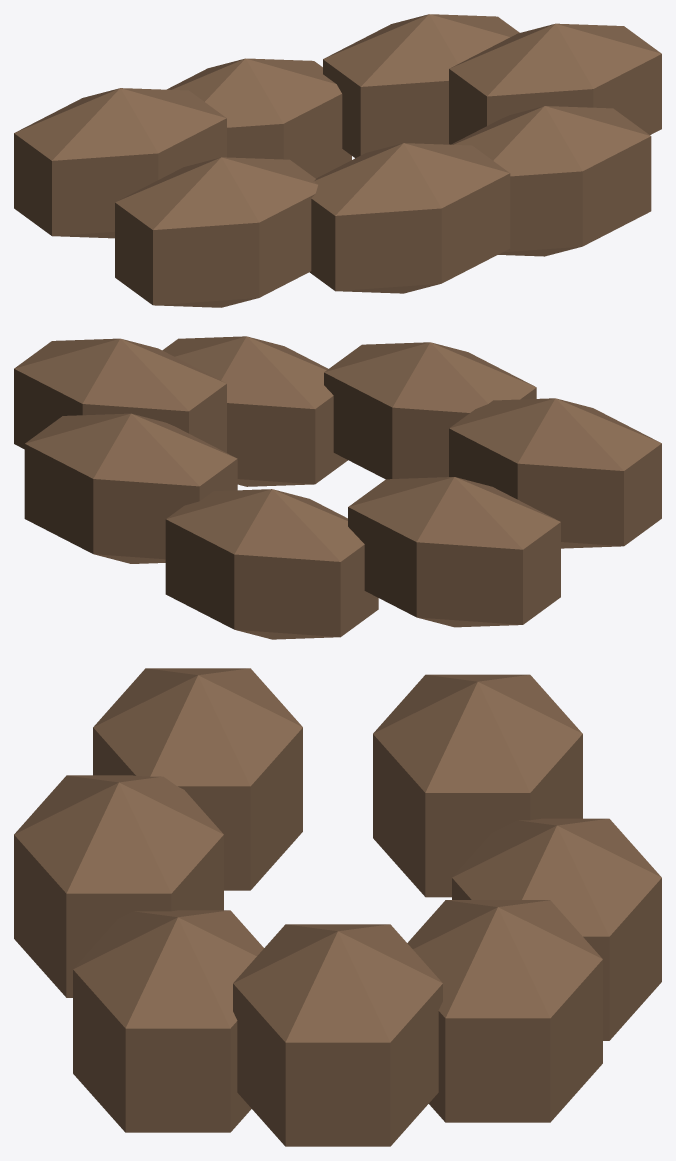
The model's file is npc_headwear_02.glb.
3 renders of one model, top to bottom at view 1: azimuth 30°, elevation 25°; view 2: azimuth 150°, elevation 25°; view 3: azimuth 270°, elevation 25°, orthographic. The views are drawn at different scales.
Visible parts, largest first — view 1: npc_headwear_02; view 2: npc_headwear_02; view 3: npc_headwear_02.
Boxes of the visible parts, x1=… form: npc_headwear_02: x1=14, y1=14, x2=661, y2=307; npc_headwear_02: x1=14, y1=336, x2=661, y2=639; npc_headwear_02: x1=14, y1=668, x2=661, y2=1146.
Bounding box in the file's own units: 0.4894 × 0.1562 × 0.3544.
